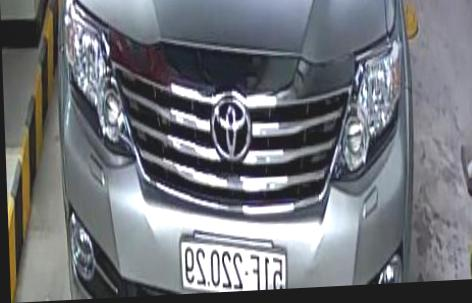License_Plate: (177, 236, 292, 293)
